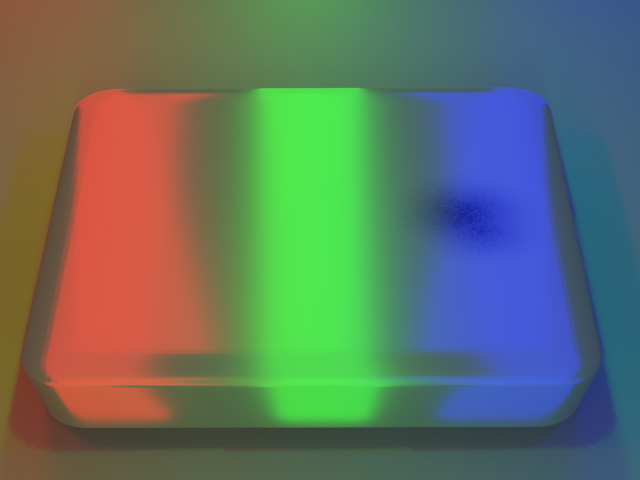stain: (372, 154, 593, 277)
